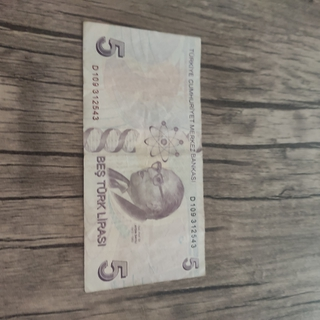5TLBack: (81, 20, 207, 294)
